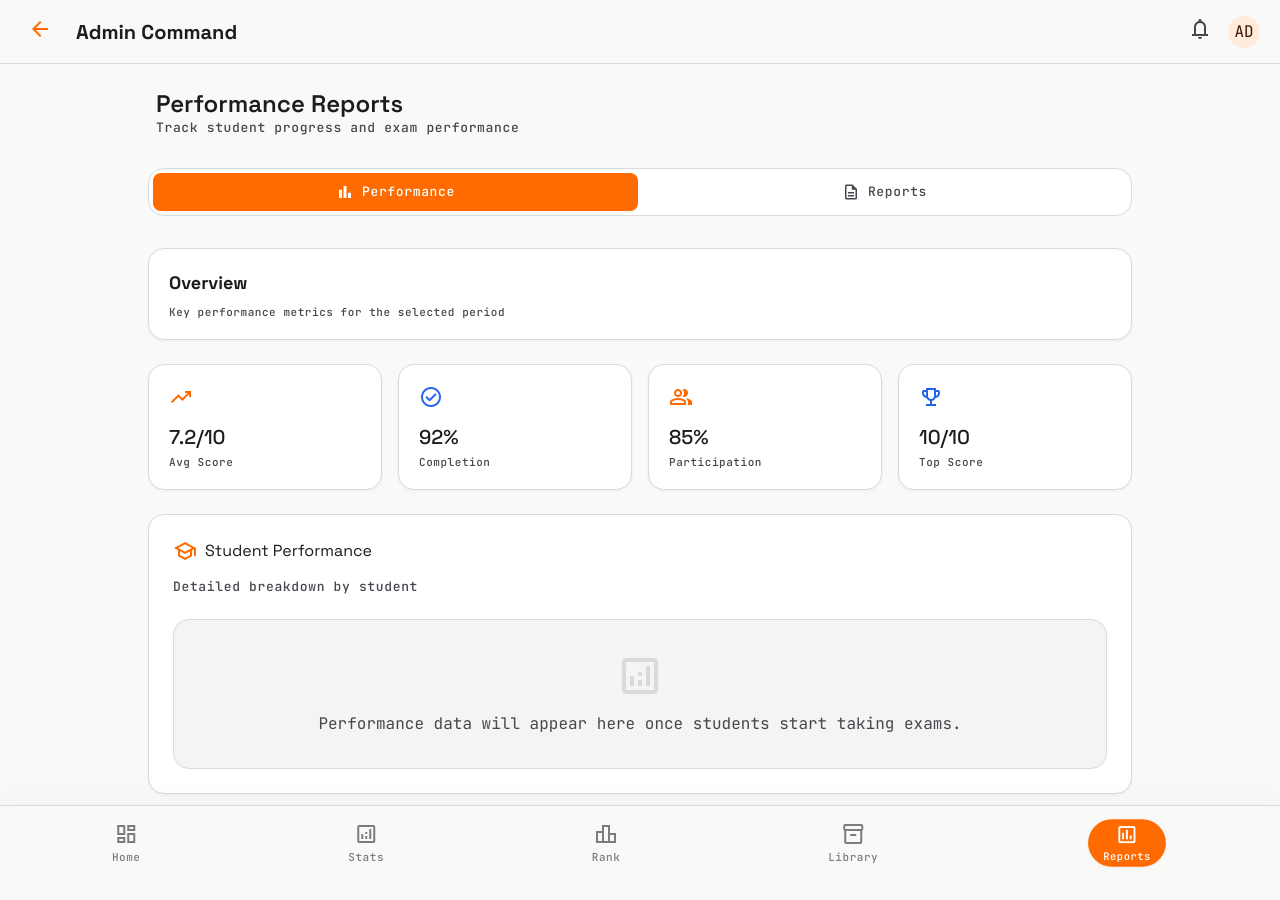
Test: TeacherReports › shows report cards with dates after switching to Reports tab
Click the 1st button "Reports" at {"x": 884, "y": 192}, box [642,173,1127,211]
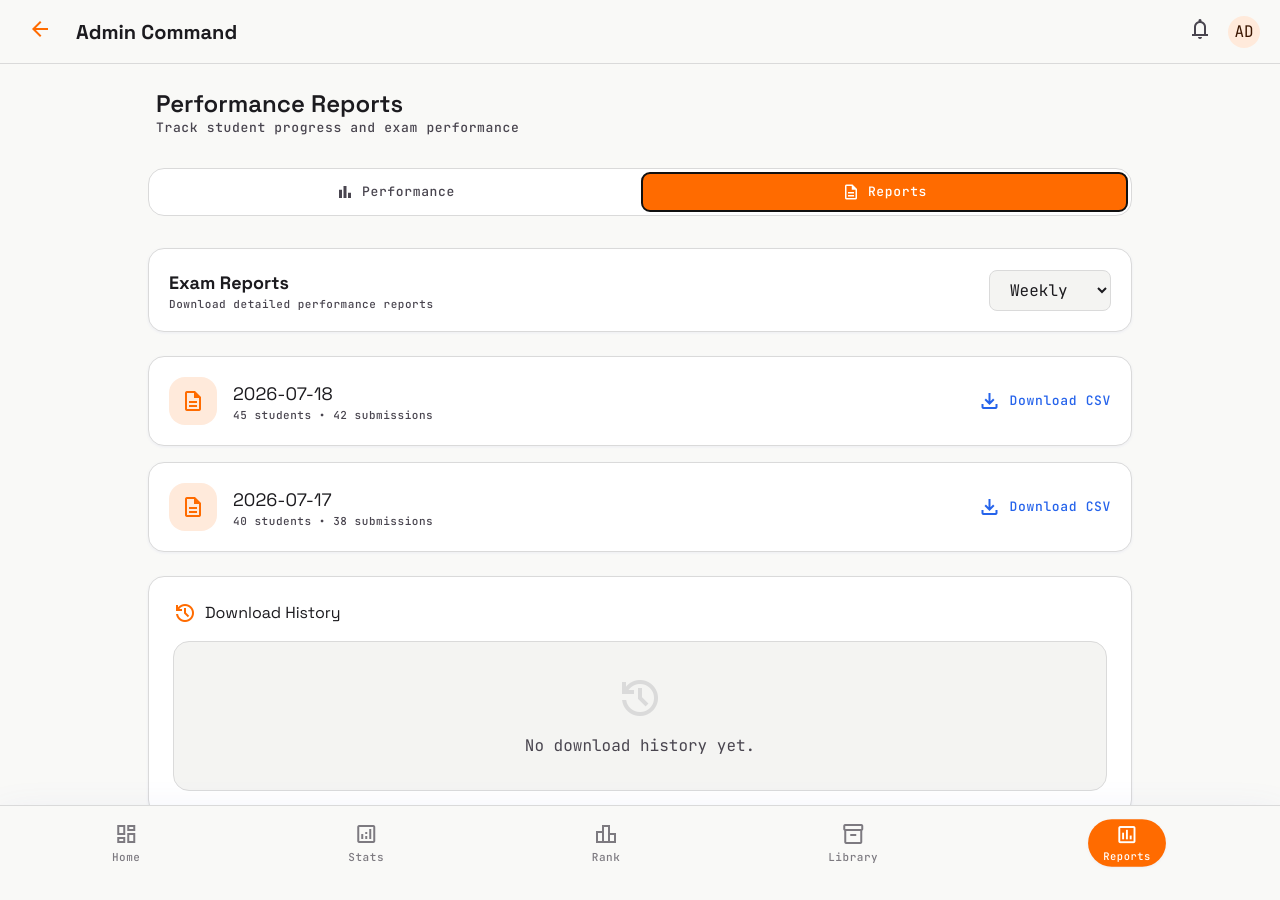
Expected: the heading "2026-07-18" is shown, [233,382,333,405]
Expected: the heading "2026-07-17" is shown, [233,488,332,511]
